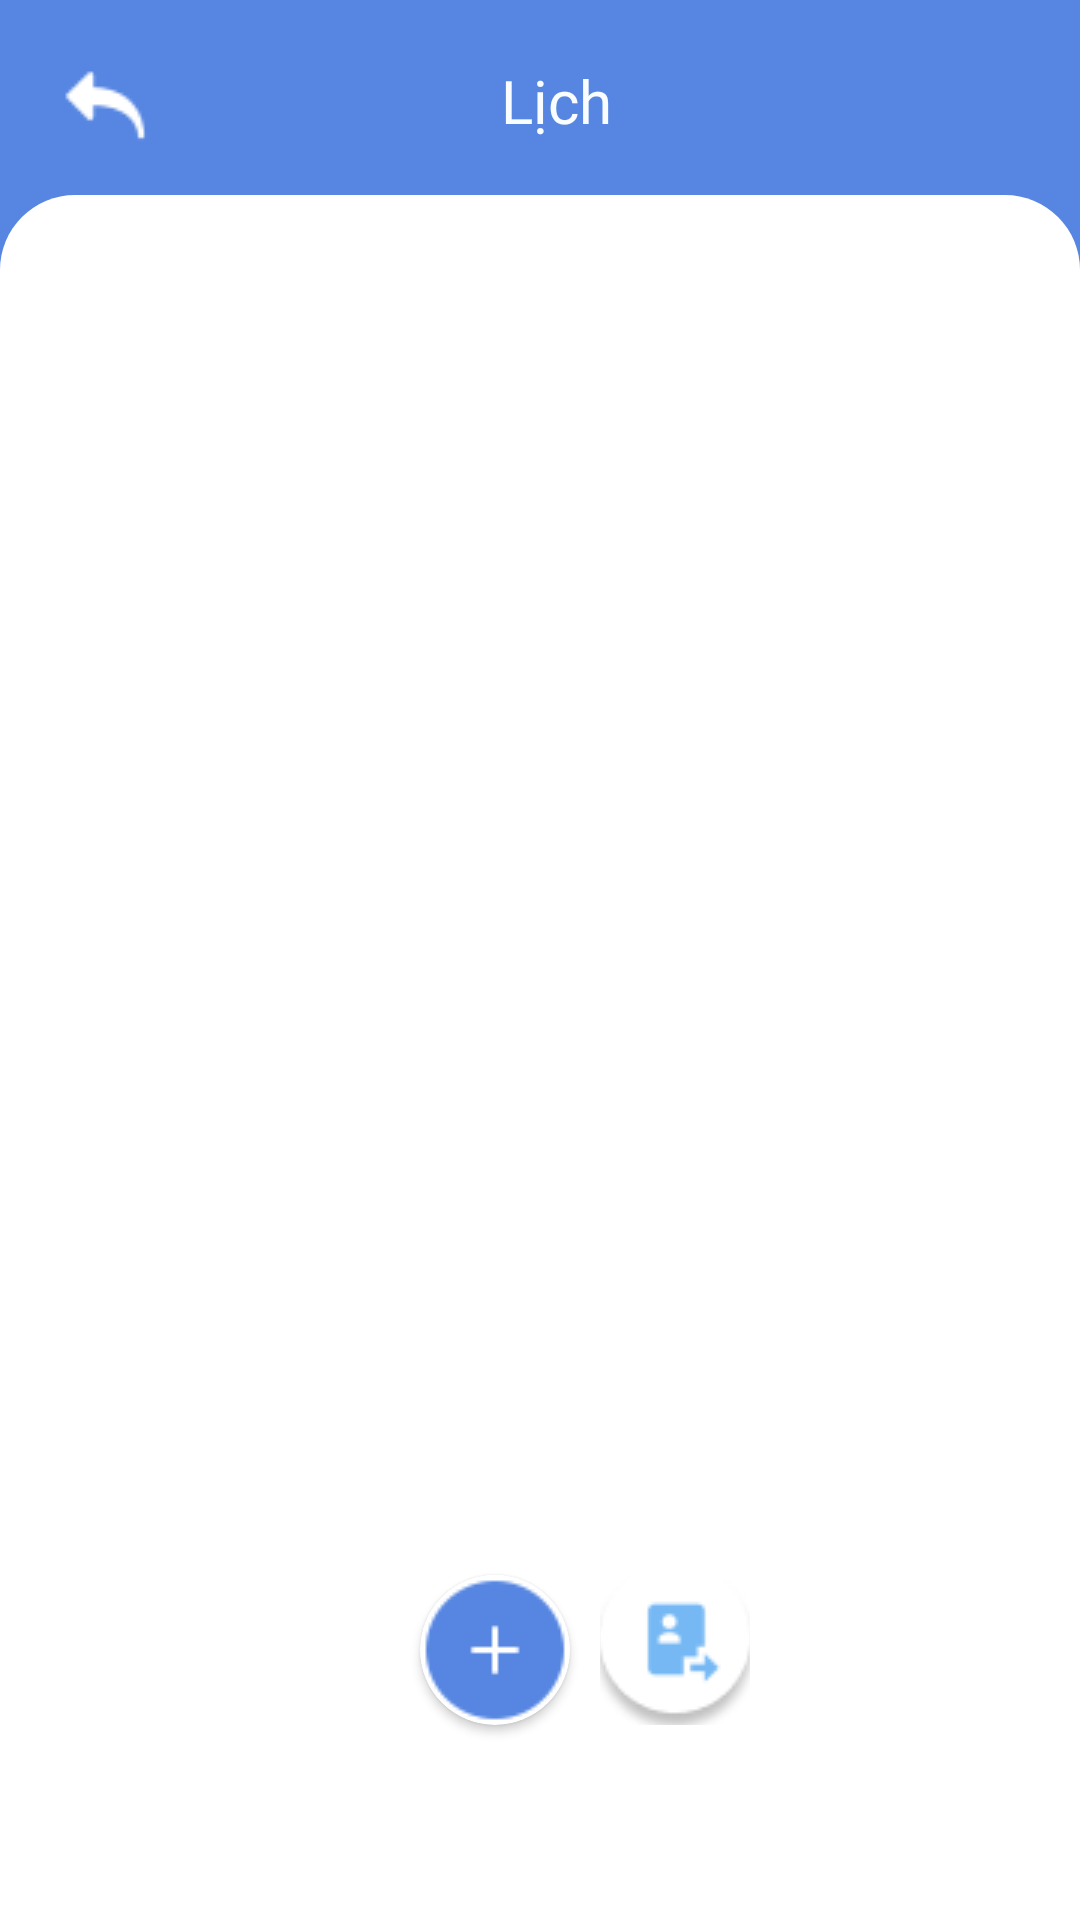

Named icons in this screenshot (1080 x 1920) and their centers, point (x, y):
add: point (495, 1652)
backarrow: point (105, 105)
